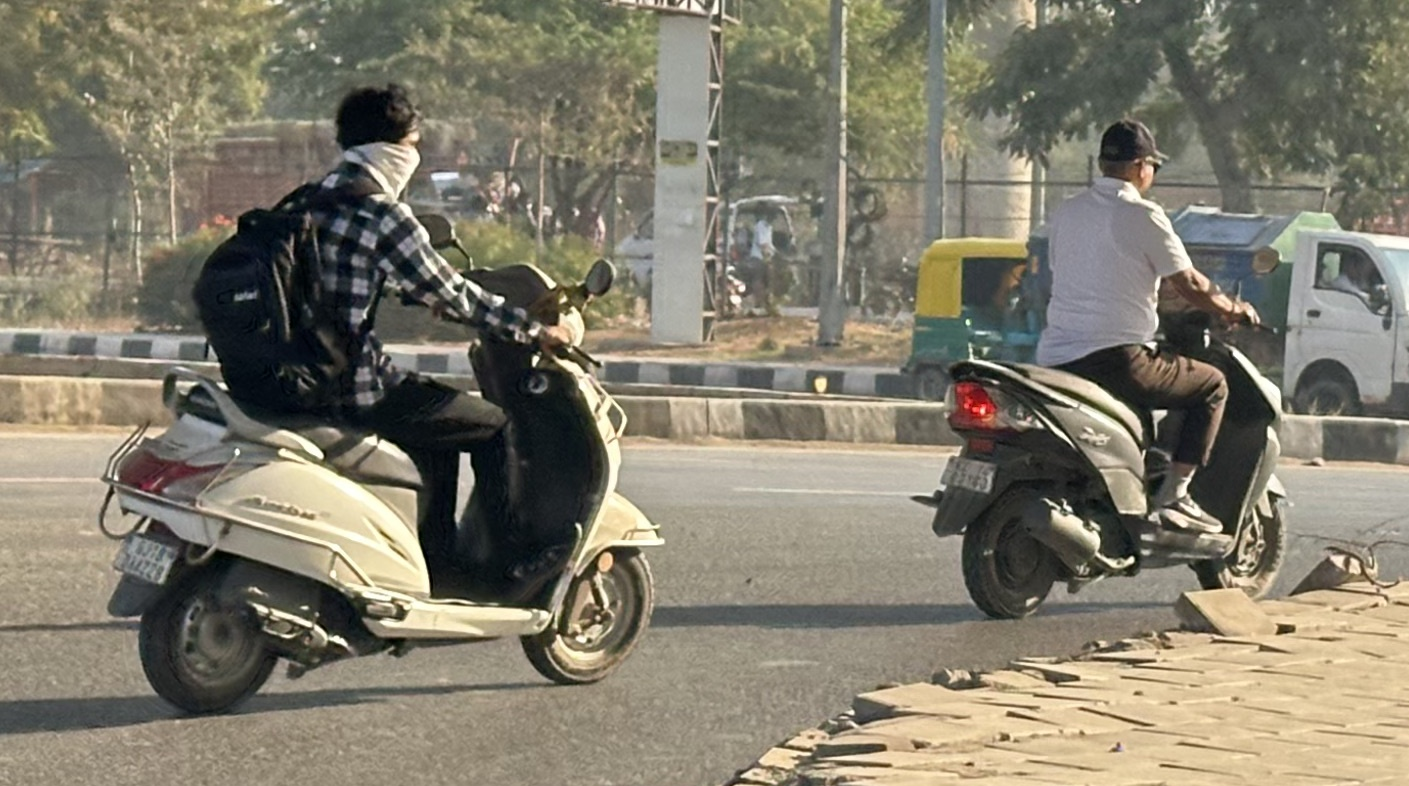BikeWithRider: (72, 48, 706, 707), (925, 115, 1321, 619)
NoHelmet: (324, 79, 429, 212), (1088, 115, 1171, 212)
